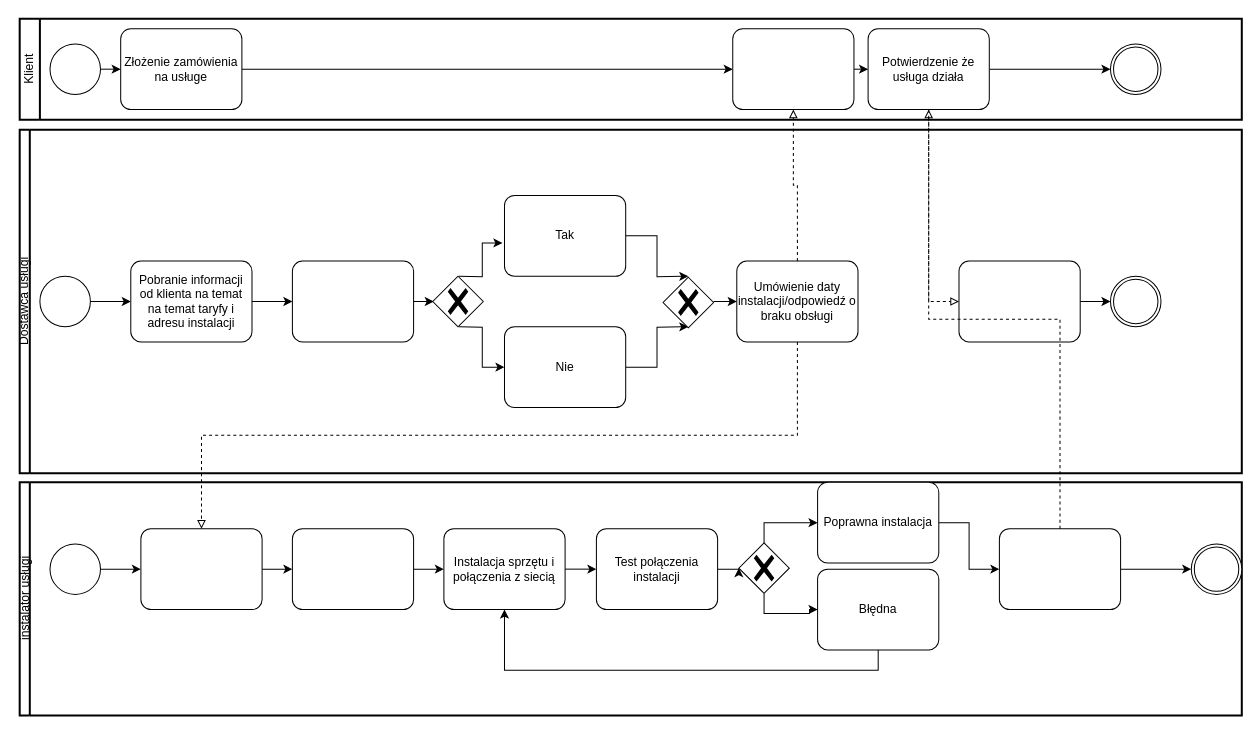
The diagram is 1259 pixels wide and 733 high, and some of its shapes have lost their labels. Each missing label, with the centre of its shape:
Otrzymanie informacji o kliencie i daty instalacji: the point at 201,569
Poinformowanie klienta o zakończeniu instalacji: the point at 1059,569
Przybycie technika na adres: the point at 352,569
Sprawdzenie czy usługa jest dostępna na podany adres: the point at 352,301
Umówienie daty instalacji: the point at 793,69
Wystawienie faktury za usługę: the point at 1019,301
